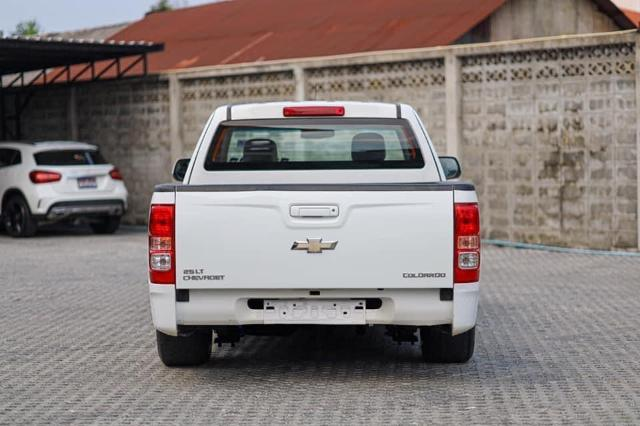pickup-truck: (135, 90, 506, 404)
